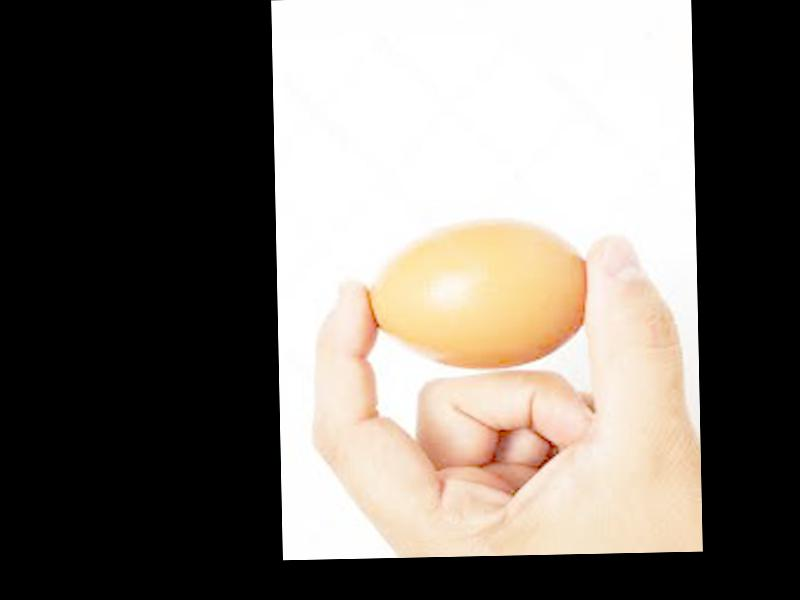Eggs: (363, 215, 589, 372)
